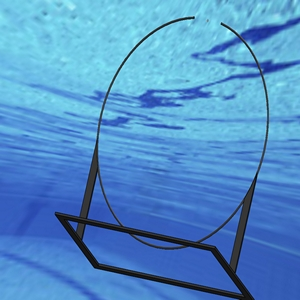circle: (53, 14, 271, 300)
